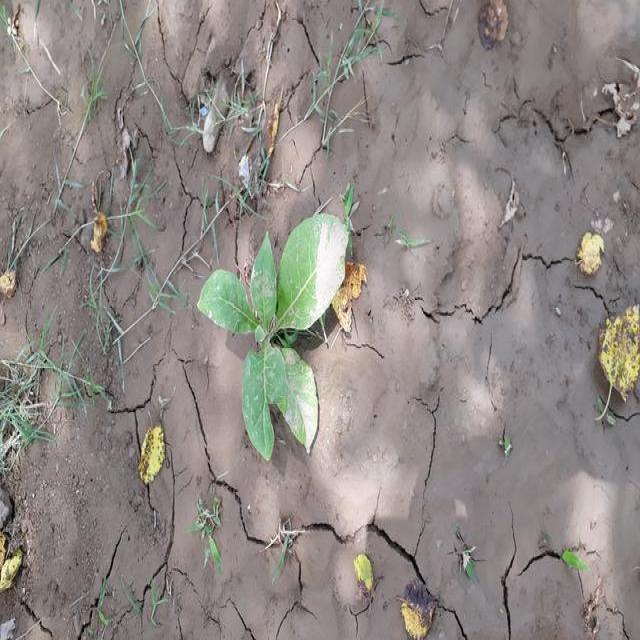crop: (197, 216, 347, 453)
